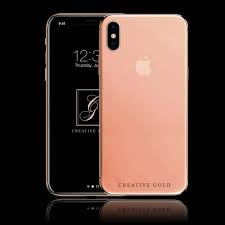iphone: (98, 10, 193, 198)
iphone10: (97, 11, 192, 199)
